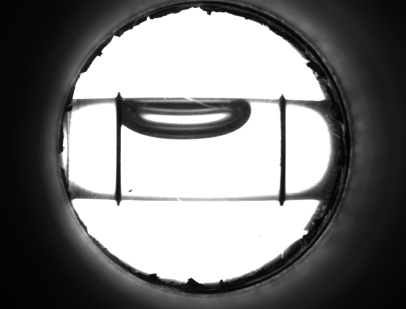line: (274, 114, 293, 186), (109, 135, 126, 189)
